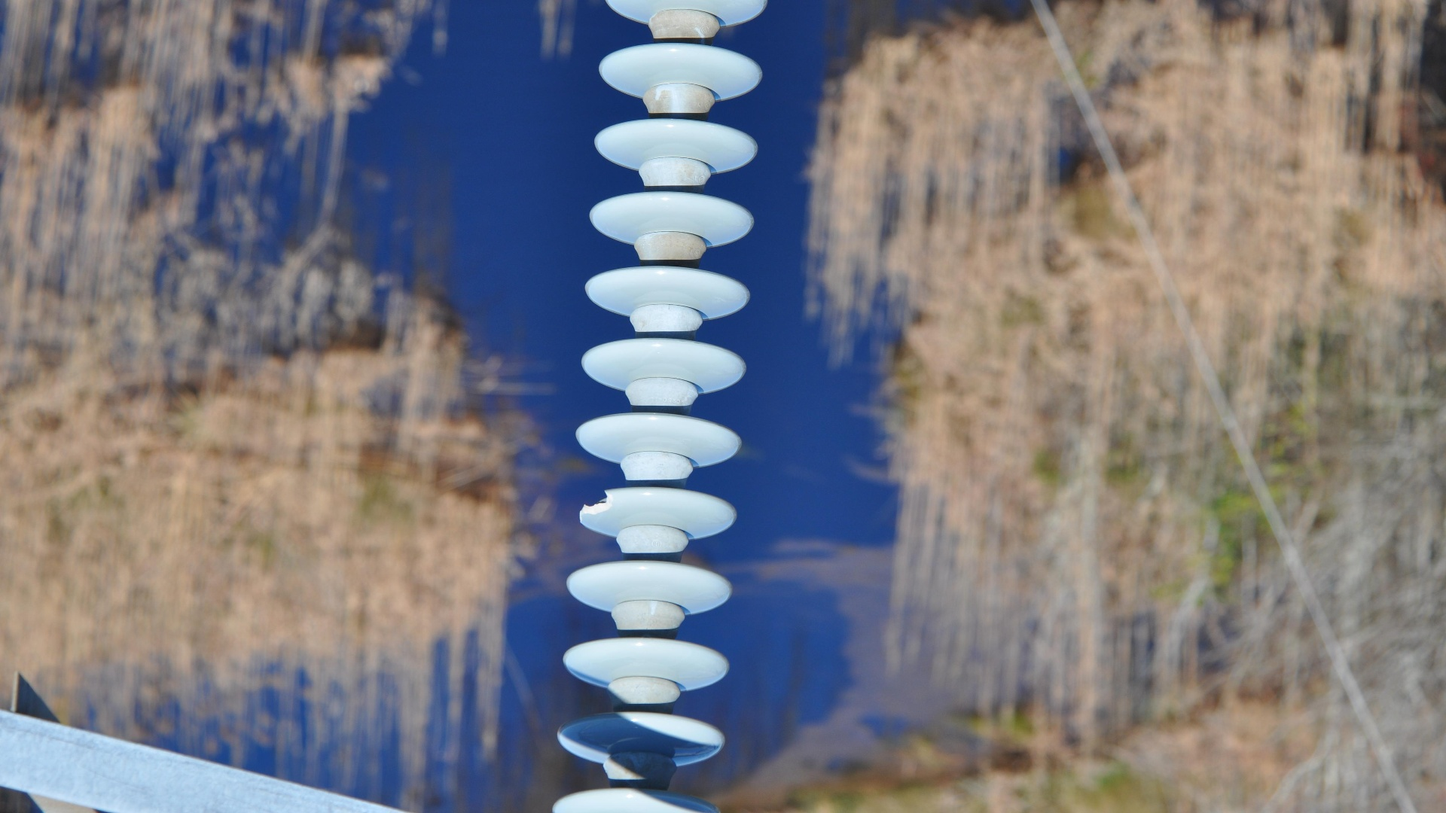insulator: (542, 1, 772, 813)
insulator_breakage: (578, 486, 615, 526)
